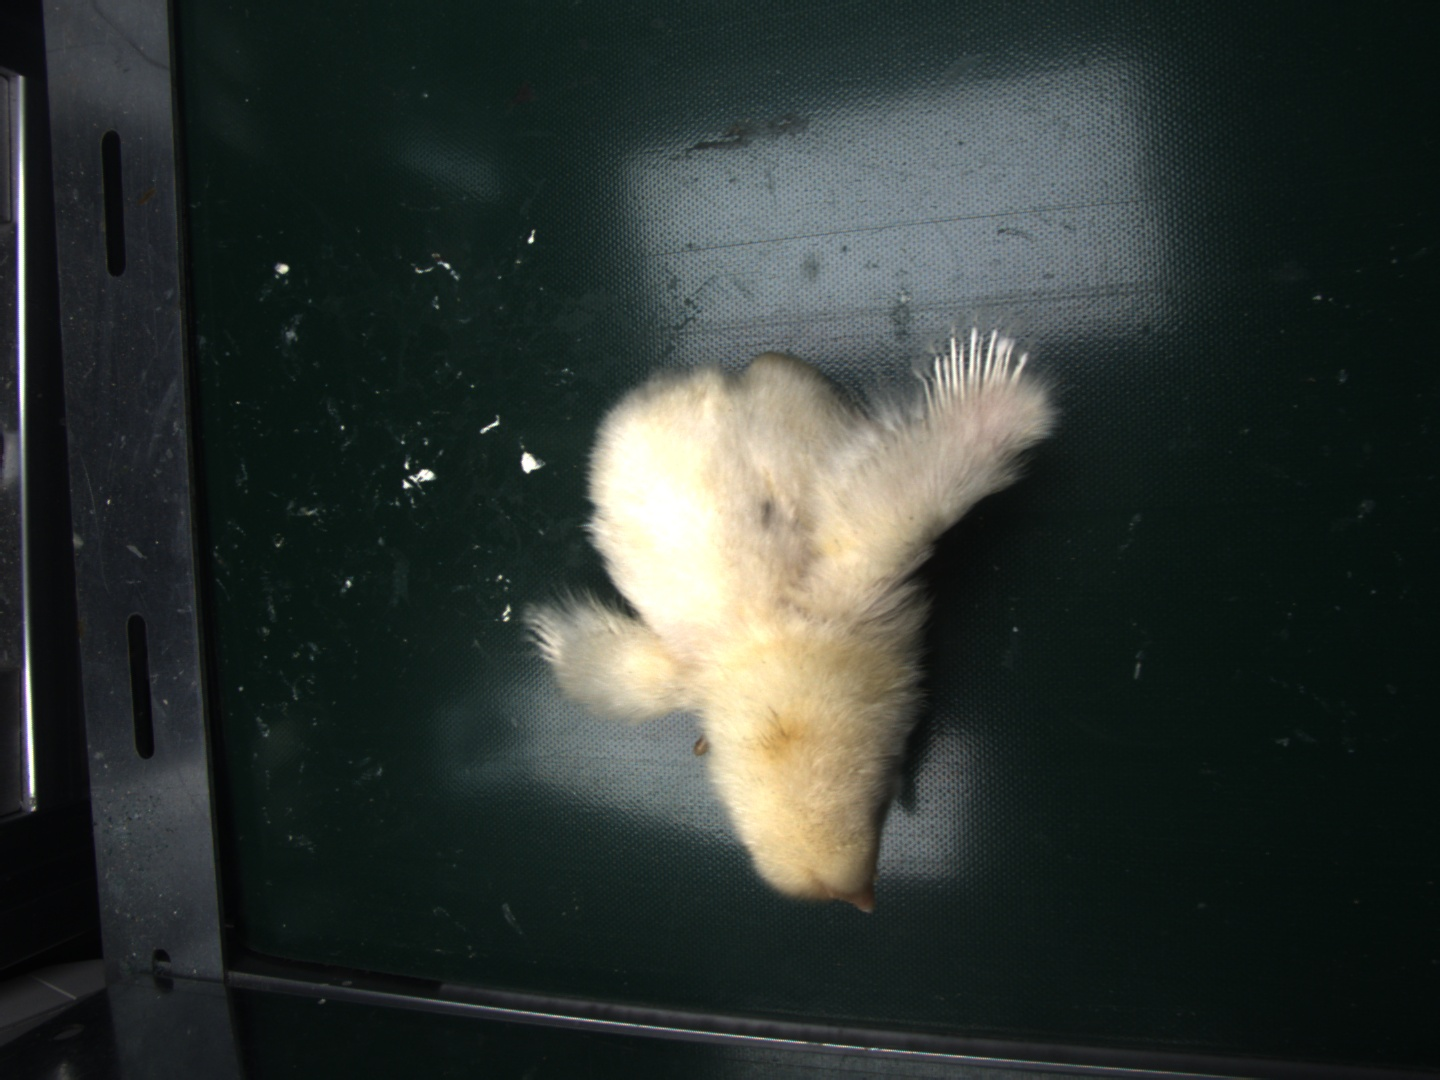male: (924, 329, 1030, 400)
